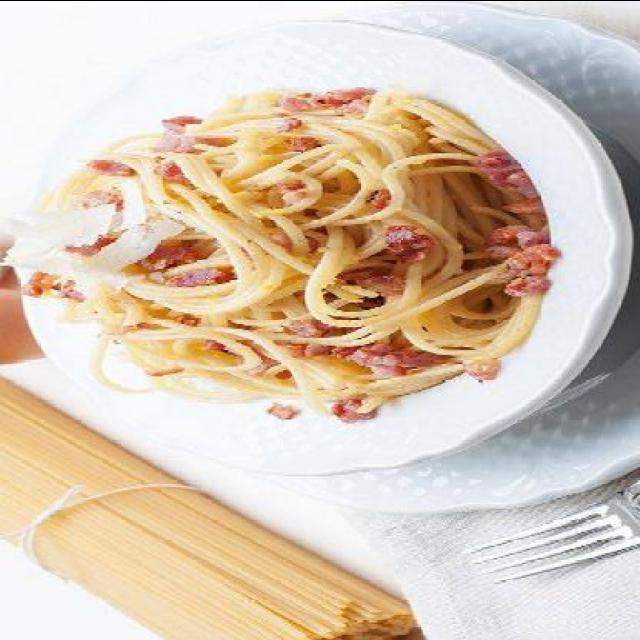Pasta with carbonara sauce: (9, 46, 594, 422)
